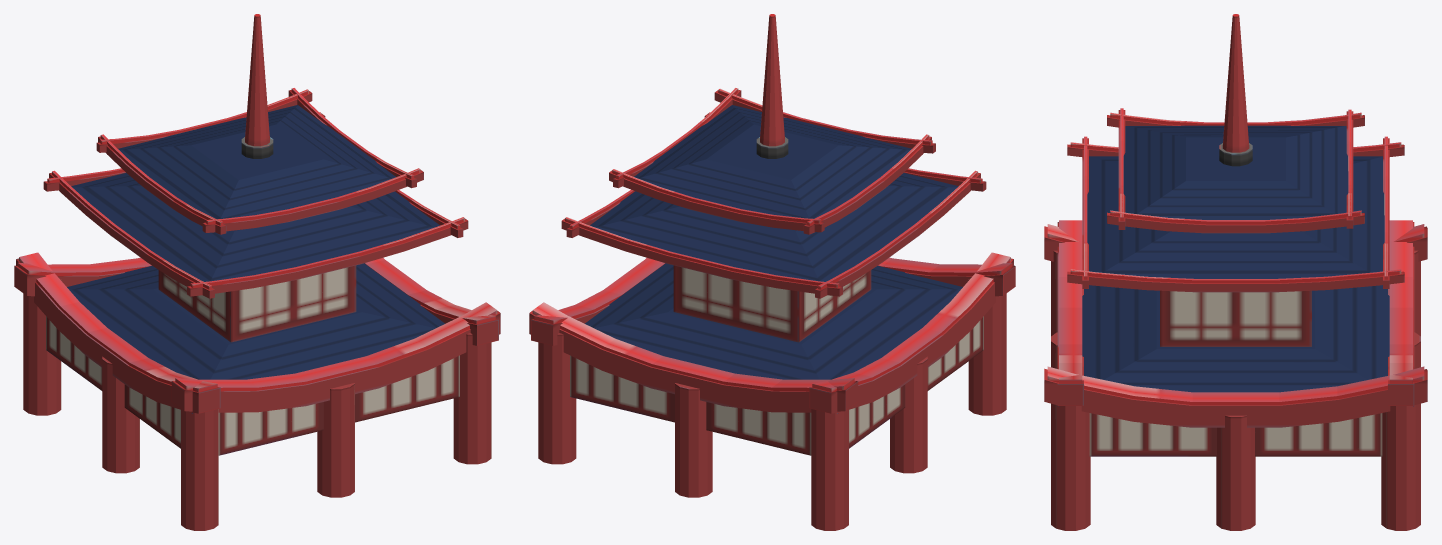
File: Pagoda.fbx
3 renders of one model, left to right at view 1: azimuth 30°, elevation 25°; view 2: azimuth 150°, elevation 25°; view 3: azimuth 270°, elevation 25°, orthographic. The views are drawn at different scales.
Visible parts, largest first — view 1: Roof_2, Roof_3, Roof, cuboid_9, cuboid_29, cuboid_16, cylinder_3, cylinder_4, cuboid_17, cylinder_2, cuboid_11, cuboid_10 (+18 smaller); view 2: Roof_2, Roof_3, Roof, cuboid_9, cuboid_30, cuboid_14, cylinder_7, cylinder_6, cuboid_15, cylinder_5, cuboid_11, cuboid_10 (+18 smaller); view 3: Roof_2, Roof_3, Roof, cuboid_28, cuboid_9, cuboid_12, cylinder_4, cylinder_6, cuboid_13, cylinder_8, cuboid_15, cuboid_17 (+22 smaller).
Boxes of the visible parts, x1,y1,x2,y2 form: Roof_2: [67, 263, 444, 413]; Roof_3: [118, 105, 396, 219]; Roof: [71, 173, 439, 281]; cuboid_9: [158, 265, 356, 342]; cuboid_29: [218, 355, 459, 455]; cuboid_16: [171, 311, 500, 412]; cylinder_3: [181, 409, 218, 530]; cylinder_4: [453, 333, 491, 464]; cuboid_17: [175, 302, 497, 391]; cylinder_2: [317, 383, 354, 497]; cuboid_11: [16, 258, 220, 413]; cuboid_10: [19, 252, 217, 391]; Roof_2: [585, 263, 962, 413]; Roof_3: [634, 105, 911, 218]; Roof: [590, 173, 958, 281]; cuboid_9: [673, 265, 871, 342]; cuboid_30: [570, 355, 811, 455]; cuboid_14: [529, 311, 858, 412]; cylinder_7: [811, 409, 848, 530]; cylinder_6: [538, 333, 576, 464]; cuboid_15: [532, 302, 854, 391]; cylinder_5: [675, 383, 712, 497]; cuboid_11: [809, 258, 1013, 413]; cuboid_10: [812, 252, 1010, 392]; Roof_2: [1058, 285, 1413, 406]; Roof_3: [1123, 125, 1348, 219]; Roof: [1087, 156, 1384, 278]; cuboid_28: [1089, 413, 1382, 456]; cuboid_9: [1160, 290, 1311, 346]; cuboid_12: [1044, 368, 1427, 427]; cylinder_4: [1051, 403, 1090, 530]; cylinder_6: [1381, 403, 1420, 530]; cuboid_13: [1047, 366, 1424, 404]; cylinder_8: [1216, 415, 1255, 530]; cuboid_15: [1389, 220, 1412, 383]; cuboid_17: [1059, 220, 1082, 383].
Size of the model in its own units: 72.5 by 91.25 by 72.5.
1 material, 1 textured.
